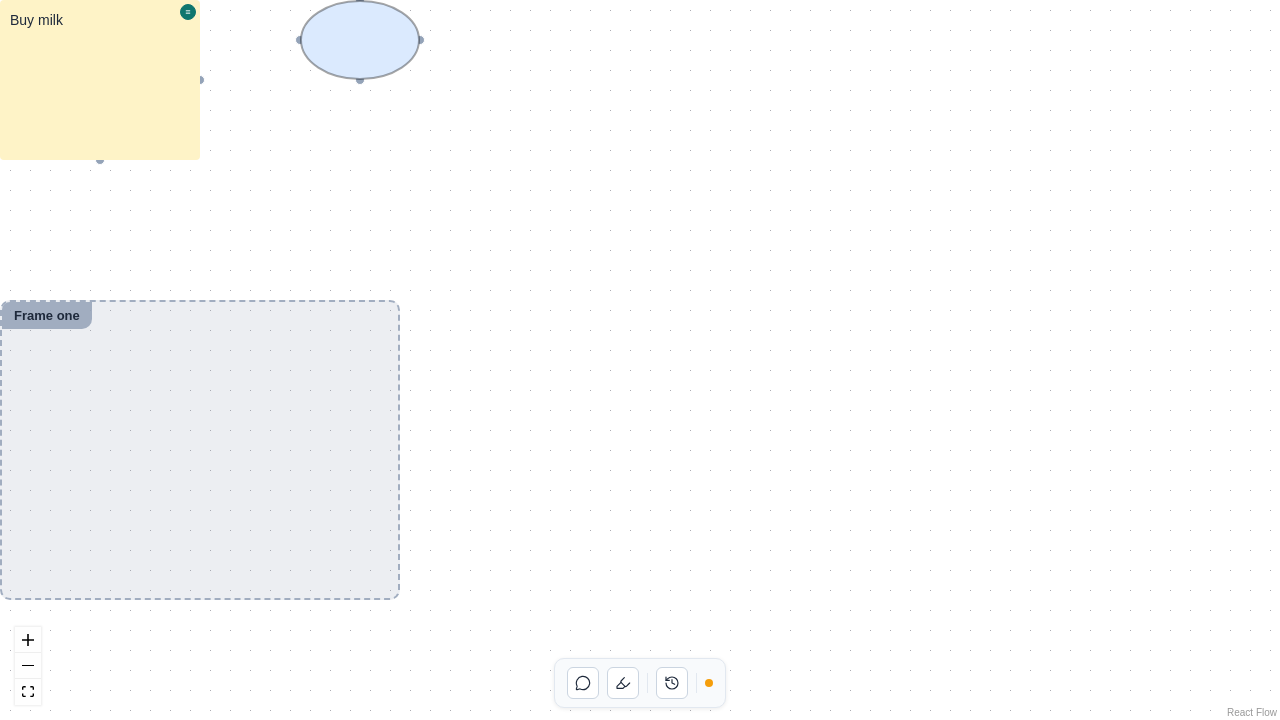
BoardCanvas › on the LIVE board a node description opens READ-ONLY (view, no edit)
This screenshot has width=1280, height=720.
Step 1. Click the button titled "View description" → (188, 12), box [180,4,196,20]
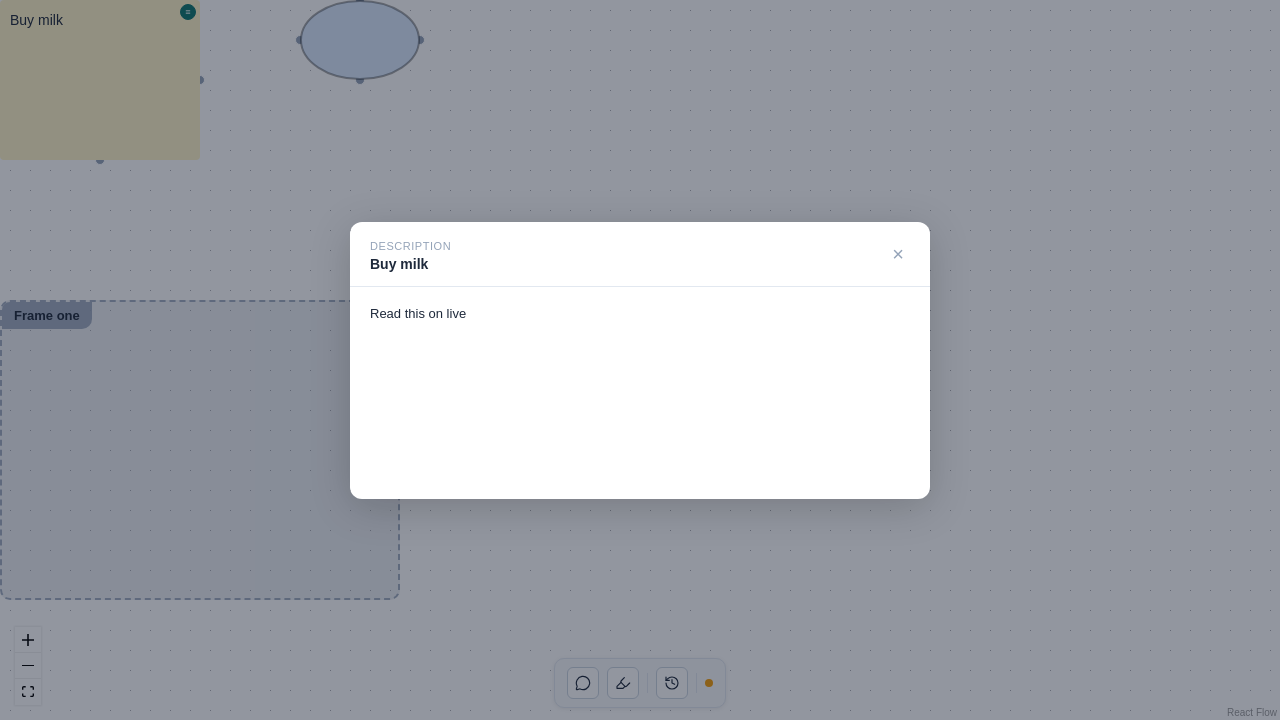
Now the text "Read this on live" is shown, box [370,306,466,320]
